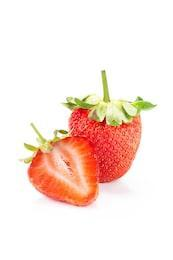Fresa: (65, 94, 145, 186), (21, 133, 106, 209)
